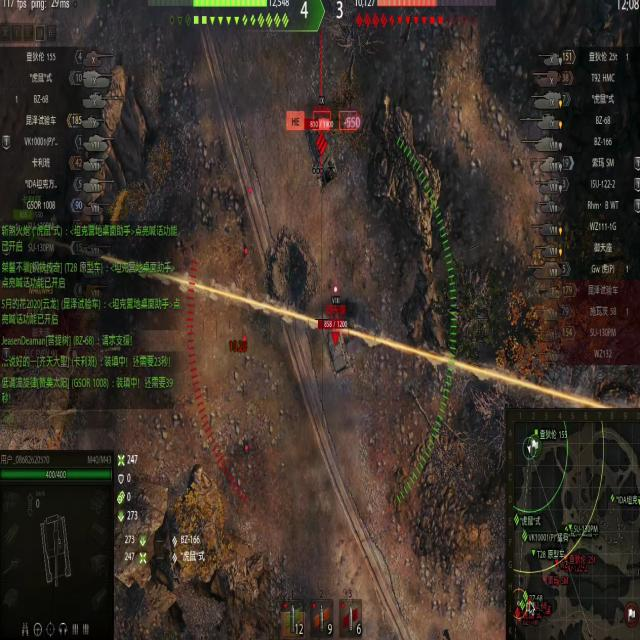tank: (318, 307, 354, 378)
